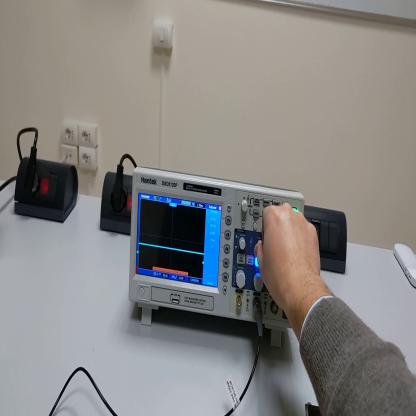hand: (257, 200, 324, 316)
oscilloscope: (129, 166, 305, 350)
socket: (14, 154, 79, 227), (102, 170, 133, 236)
